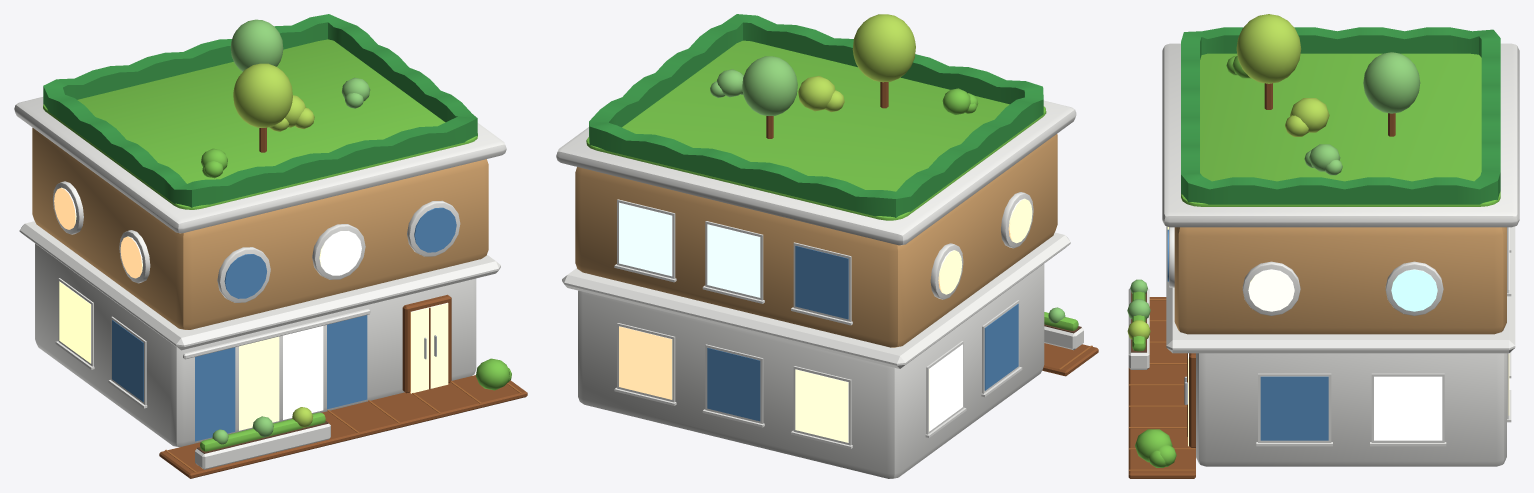
The model's file is casa_telhado_verde_madeira.glb.
3 views of the same model, side by side, from view 1: azimuth 30°, elevation 25°; view 2: azimuth 150°, elevation 25°; view 3: azimuth 270°, elevation 25° (orthographic). The views are drawn at different scales.
Visible parts, largest first — view 1: casa_telhado_verde_madeira; view 2: casa_telhado_verde_madeira; view 3: casa_telhado_verde_madeira.
Boxes of the visible parts, x1,y1,x2,y2 form: casa_telhado_verde_madeira: [14, 14, 527, 478]; casa_telhado_verde_madeira: [556, 14, 1098, 478]; casa_telhado_verde_madeira: [1127, 14, 1519, 478].
Bounding box in the file's own units: 10 × 9.39 × 9.33.
6 materials, 1 textured.
